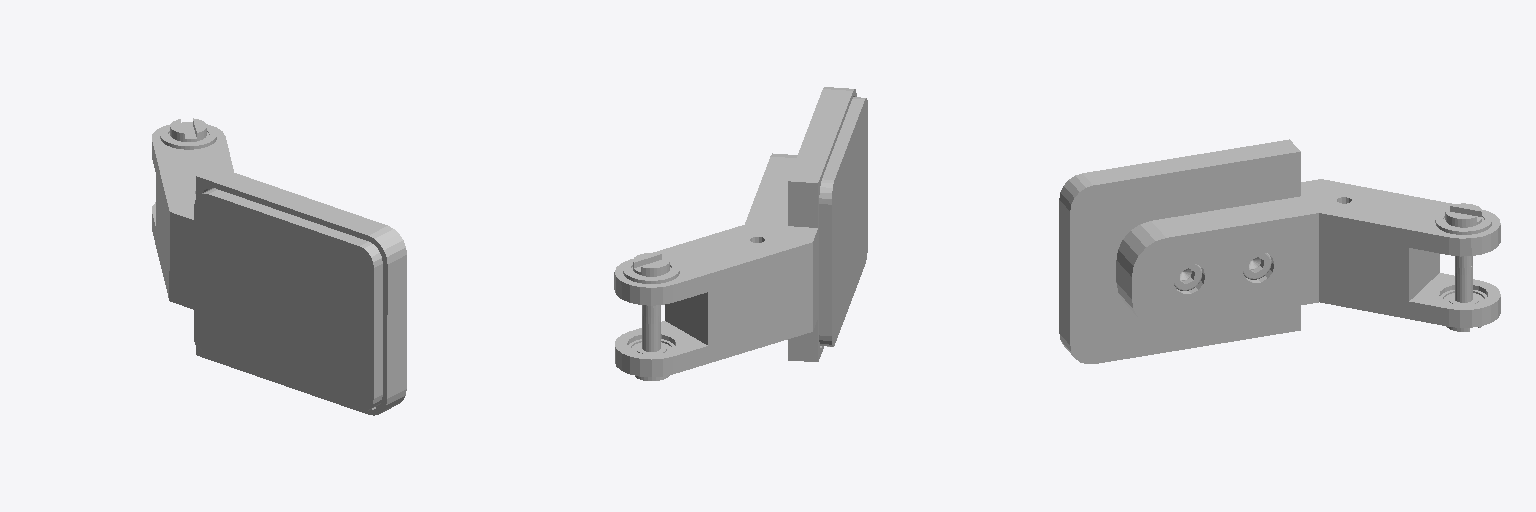
File: left_finger.obj
3 views of the same model, side by side, from view 1: azimuth 30°, elevation 25°; view 2: azimuth 150°, elevation 25°; view 3: azimuth 270°, elevation 25° (orthographic).
Visible parts, largest first — view 1: left_finger; view 2: left_finger; view 3: left_finger.
Boxes of the visible parts, x1,y1,x2,y2 form: left_finger: [152, 118, 406, 415]; left_finger: [614, 87, 867, 380]; left_finger: [1059, 139, 1500, 363].
Bounding box in the file's own units: 0.0246 × 0.0321 × 0.0715.